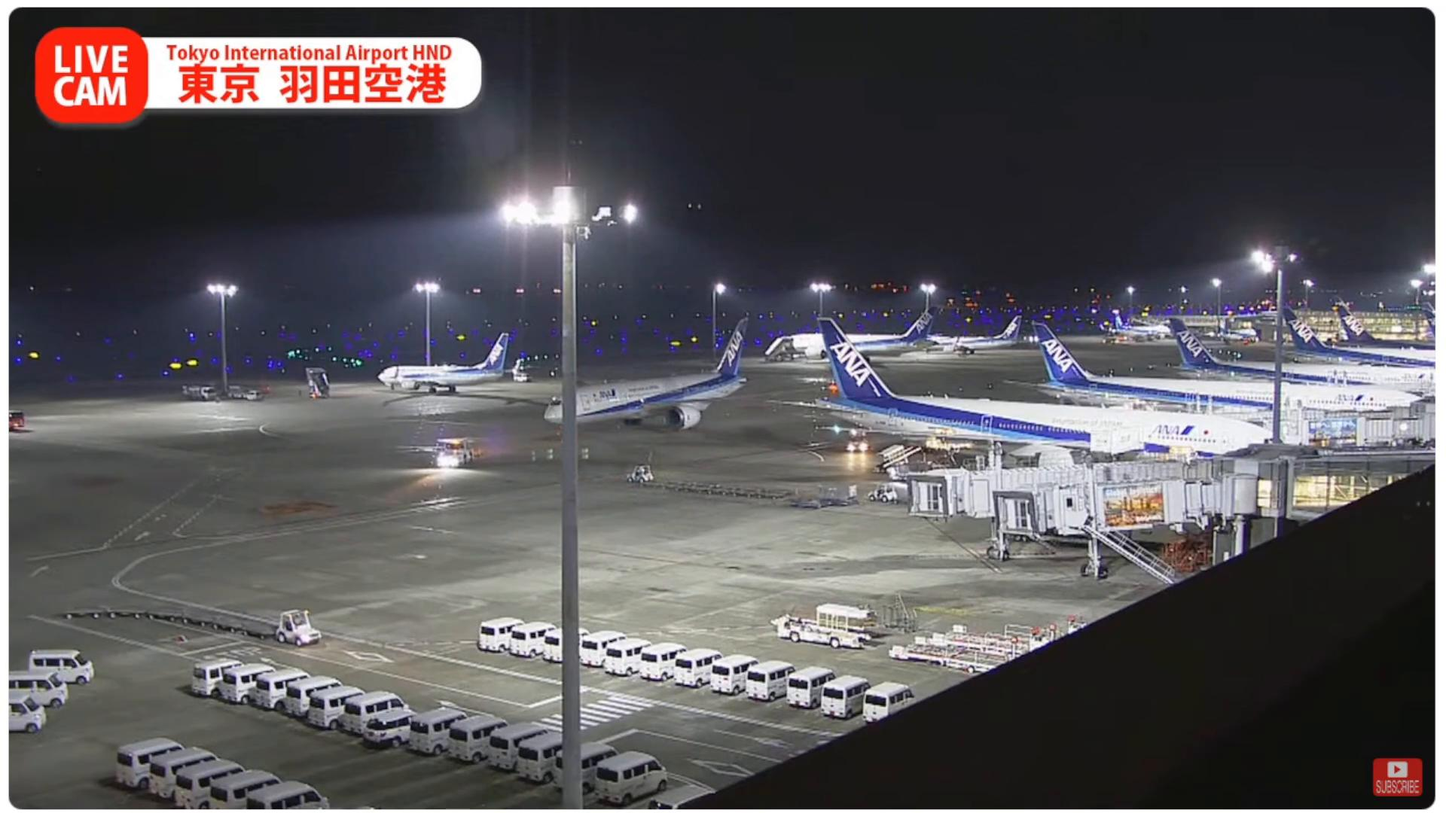APS: (437, 438, 475, 467)
Aerobridge: (905, 456, 1224, 518), (989, 475, 1256, 533)
Airplane: (544, 318, 749, 430)
JCPL: (912, 624, 1048, 657), (889, 640, 1014, 673), (747, 584, 750, 584)
Skyloader: (771, 601, 875, 650)
Window: (1290, 455, 1437, 521)
